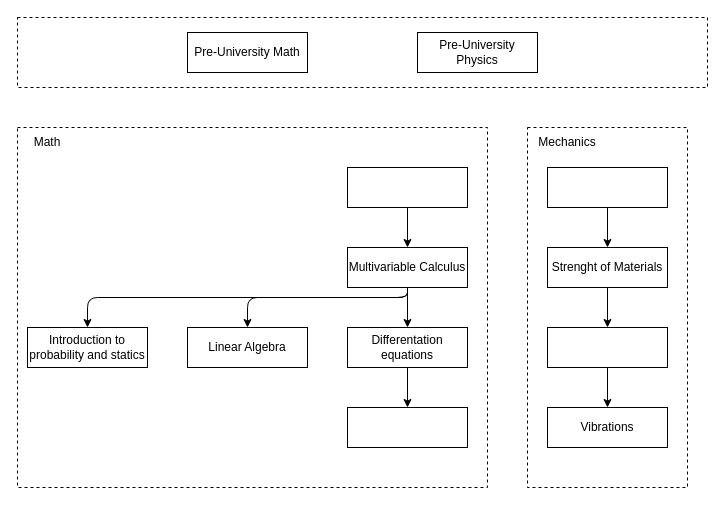
Image size: 725x505. Some labels were removed from this diagram. Each missing label, with the centre of its shape:
"Calculus" goes at (407,187).
"Complex variables with applications" goes at (407,427).
"Dynamics" goes at (607,347).
"Statics" goes at (607,187).
